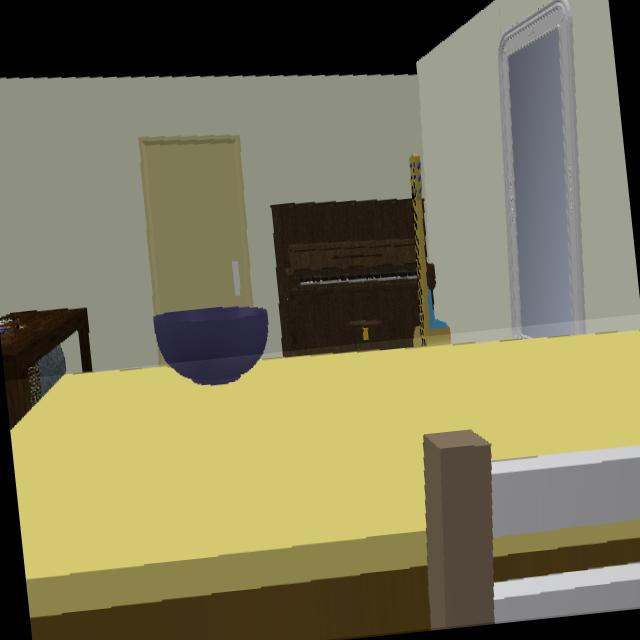chair: (424, 430, 640, 628)
table: (10, 332, 640, 640)
